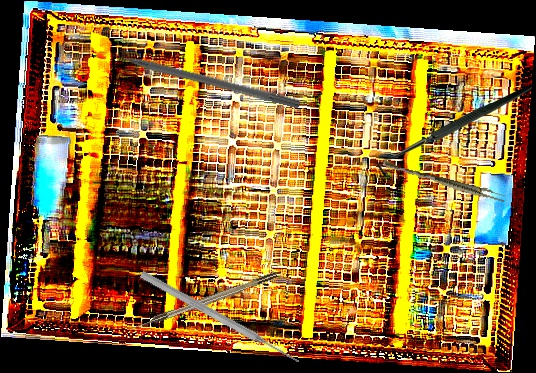Hook Surgical: (378, 82, 532, 180), (127, 271, 279, 333)
Pusher: (138, 269, 302, 367), (97, 44, 302, 110)
Tissue Forceps: (380, 159, 508, 204)
